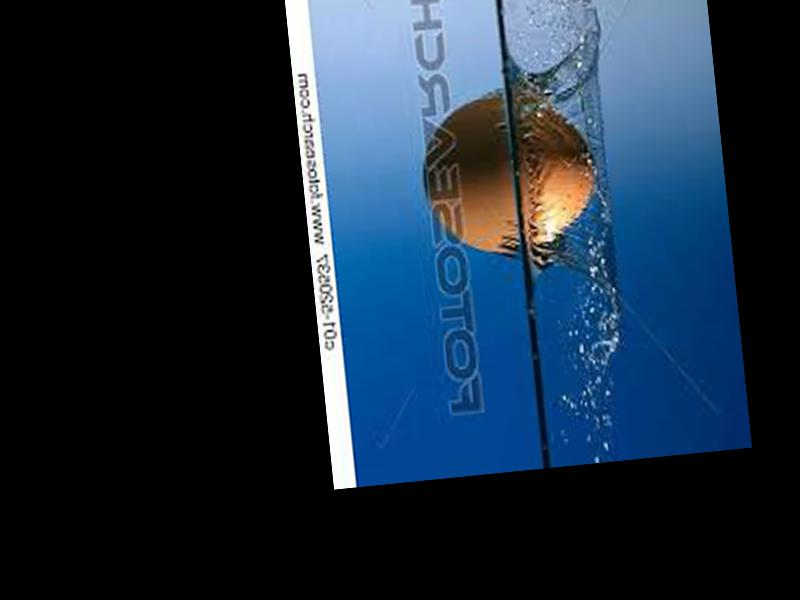Eggs: (418, 86, 603, 259)
